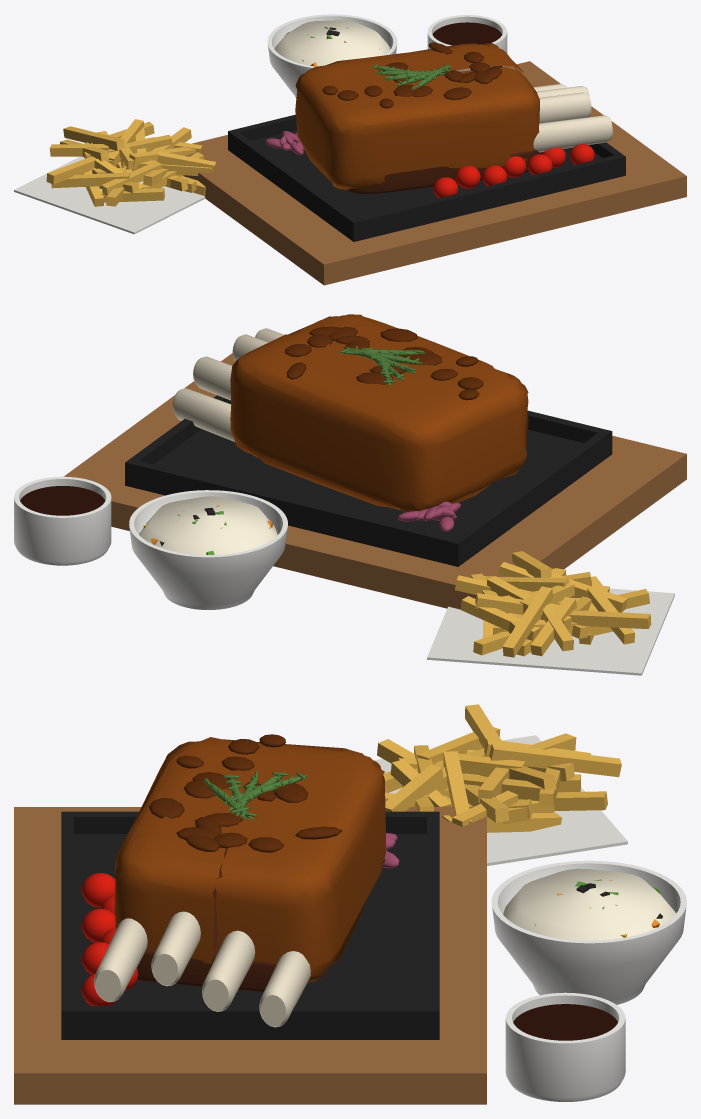
File: costelao.glb
The picture shows the model from 3 angles, top to bottom: view 1: azimuth 30°, elevation 25°; view 2: azimuth 150°, elevation 25°; view 3: azimuth 270°, elevation 25°; orthographic projection. The views are drawn at different scales.
Parts seen in each view (by area): view 1: costelao; view 2: costelao; view 3: costelao.
Boxes of the visible parts, left/top/right/bottom form: costelao: left=14, top=14, right=686, bottom=285; costelao: left=14, top=314, right=686, bottom=675; costelao: left=14, top=704, right=686, bottom=1104.
Size of the model in its own units: 0.5506 by 0.123 by 0.427.
